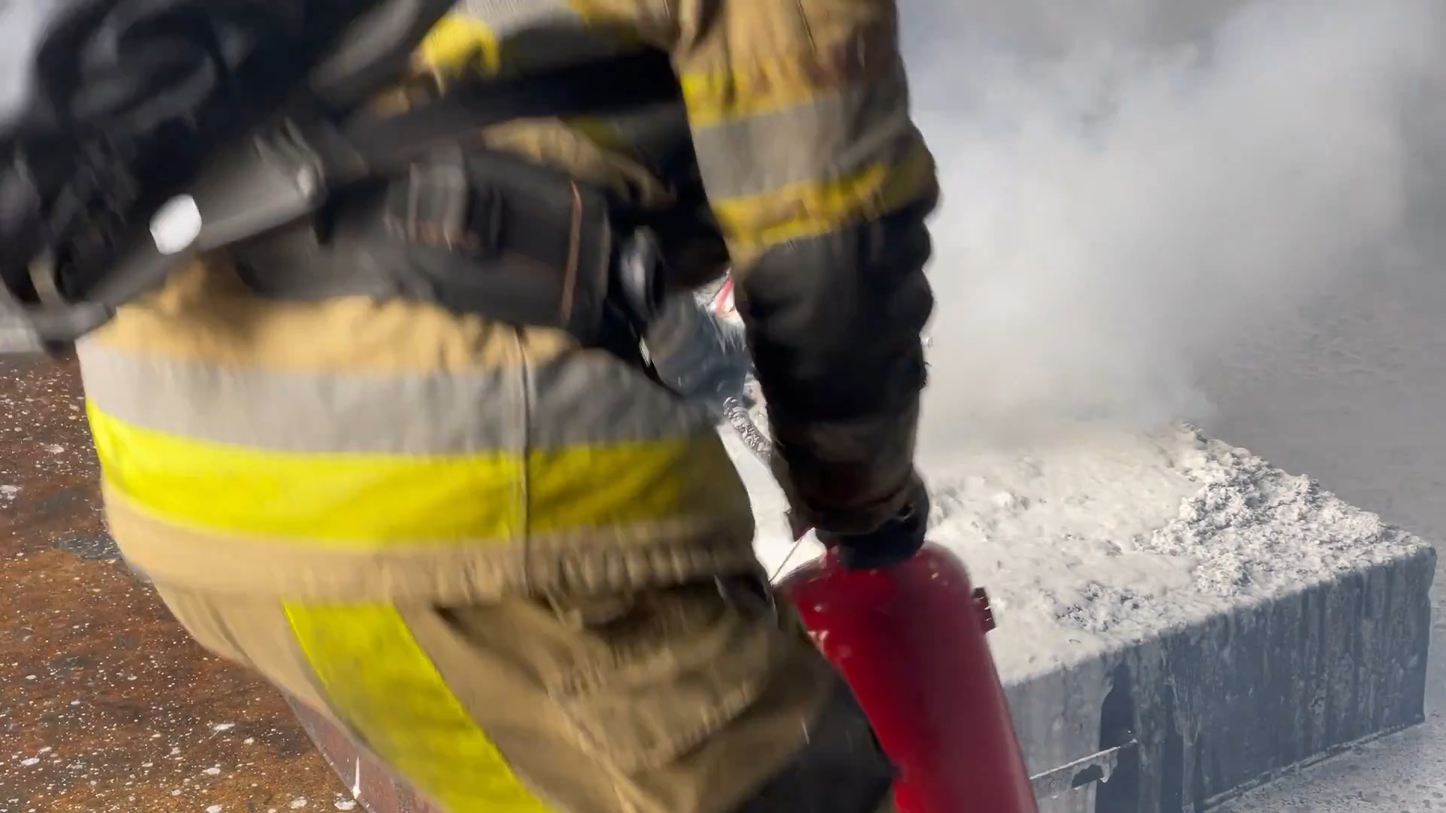smoke: (869, 22, 1426, 562)
